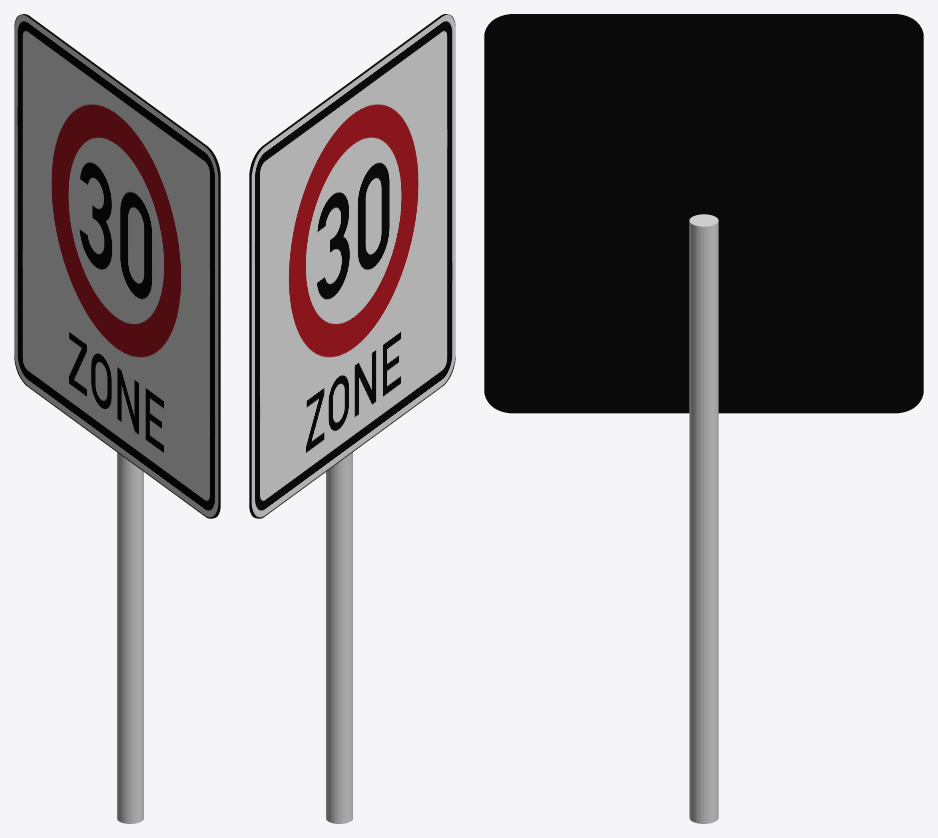
Rendered from speed_limit_zone_30_start_sign.dae.
The picture shows the model from 3 angles, left to right: view 1: azimuth 30°, elevation 25°; view 2: azimuth 150°, elevation 25°; view 3: azimuth 270°, elevation 25°; orthographic projection. The views are drawn at different scales.
Visible parts, largest first — view 1: path3678, Cylinder; view 2: path3678, Cylinder; view 3: path3678, Cylinder.
Part boxes in pixels (<box>): path3678: <box>14,14,220,518</box>; Cylinder: <box>117,452,143,823</box>; path3678: <box>249,14,455,518</box>; Cylinder: <box>326,452,352,823</box>; path3678: <box>484,14,923,413</box>; Cylinder: <box>689,214,718,823</box>.
Size of the model in its own units: 0.011 by 0.15 by 0.3.
3 materials, 2 textured.
